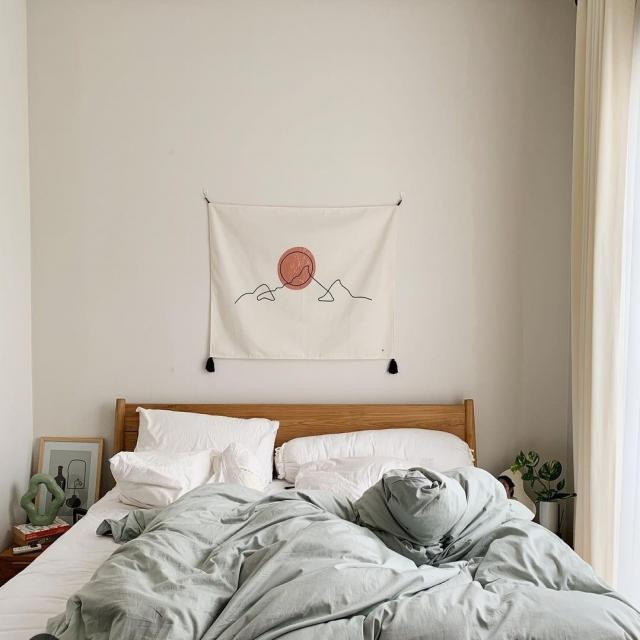bed: (0, 406, 640, 640)
